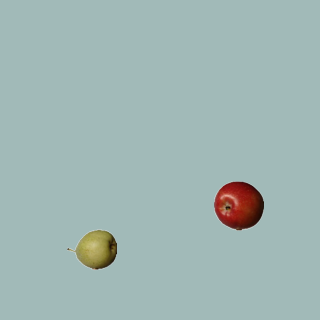Apple Braeburn: (213, 180, 263, 230)
Pear: (66, 224, 116, 274)
